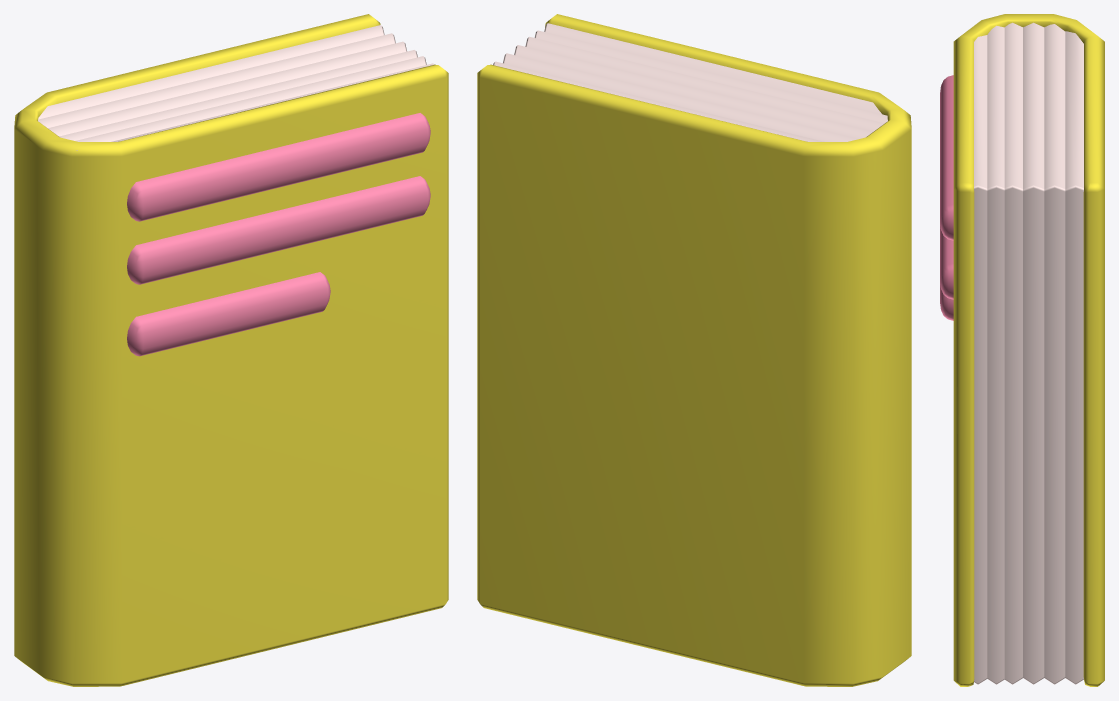
File: Public_8_Book_4.glb
3 renders of one model, left to right at view 1: azimuth 30°, elevation 25°; view 2: azimuth 150°, elevation 25°; view 3: azimuth 270°, elevation 25°, orthographic. The views are drawn at different scales.
Visible parts, largest first — view 1: Public_8_Book_4; view 2: Public_8_Book_4; view 3: Public_8_Book_4.
Boxes of the visible parts, left/top/right/bottom form: Public_8_Book_4: left=14, top=14, right=448, bottom=686; Public_8_Book_4: left=477, top=14, right=911, bottom=686; Public_8_Book_4: left=940, top=14, right=1104, bottom=686.
Size of the model in its own units: 1.03 by 1.39 by 0.4111.
1 material, 1 textured.
